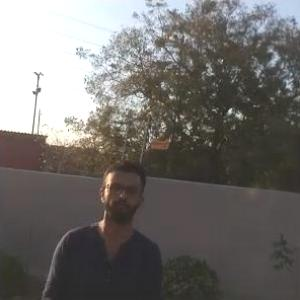follow: (38, 157, 167, 299)
